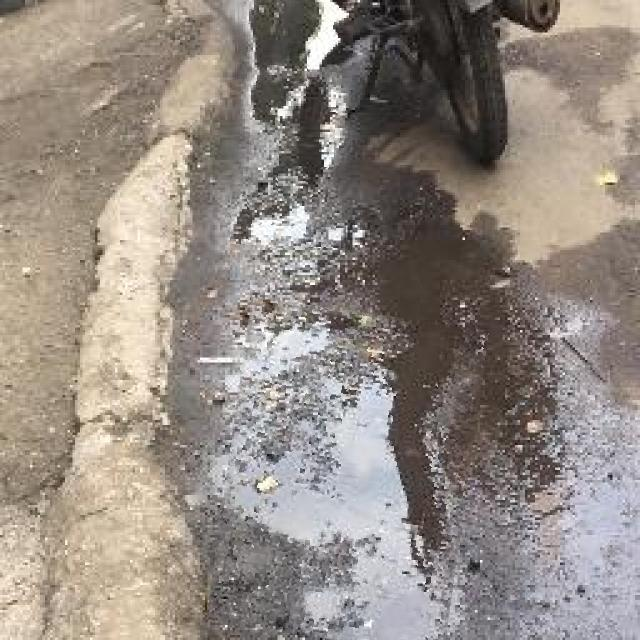puddle: (218, 305, 479, 640), (233, 1, 353, 248)
